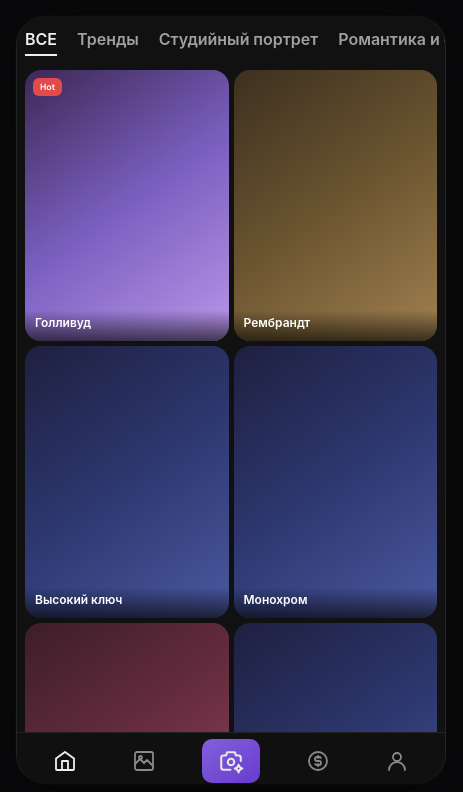
TG user reactivity › parses TG user from initData string when initDataUnsafe is empty
Click the button named "Профиль": (397,760) [375,738,419,782]
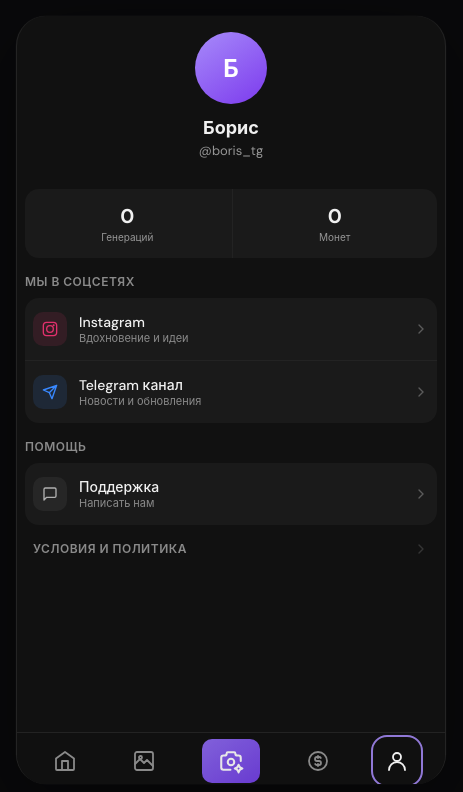
Expected: the text "@boris_tg" is shown, [199,142,263,159]
